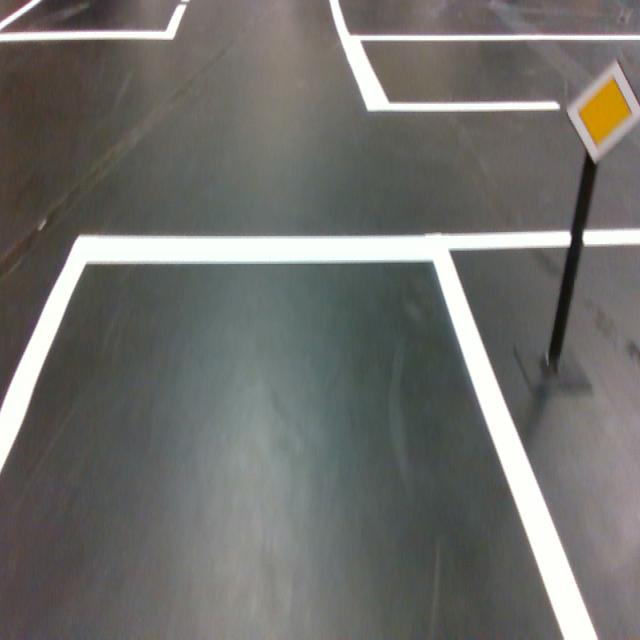priority-sign: (561, 57, 640, 160)
